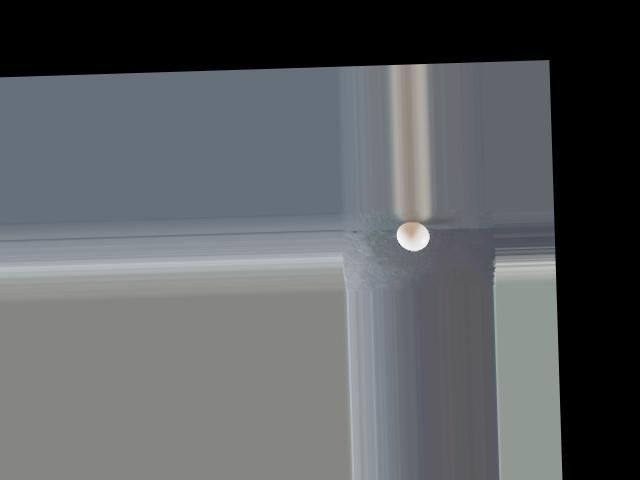egg: (395, 221, 429, 252)
